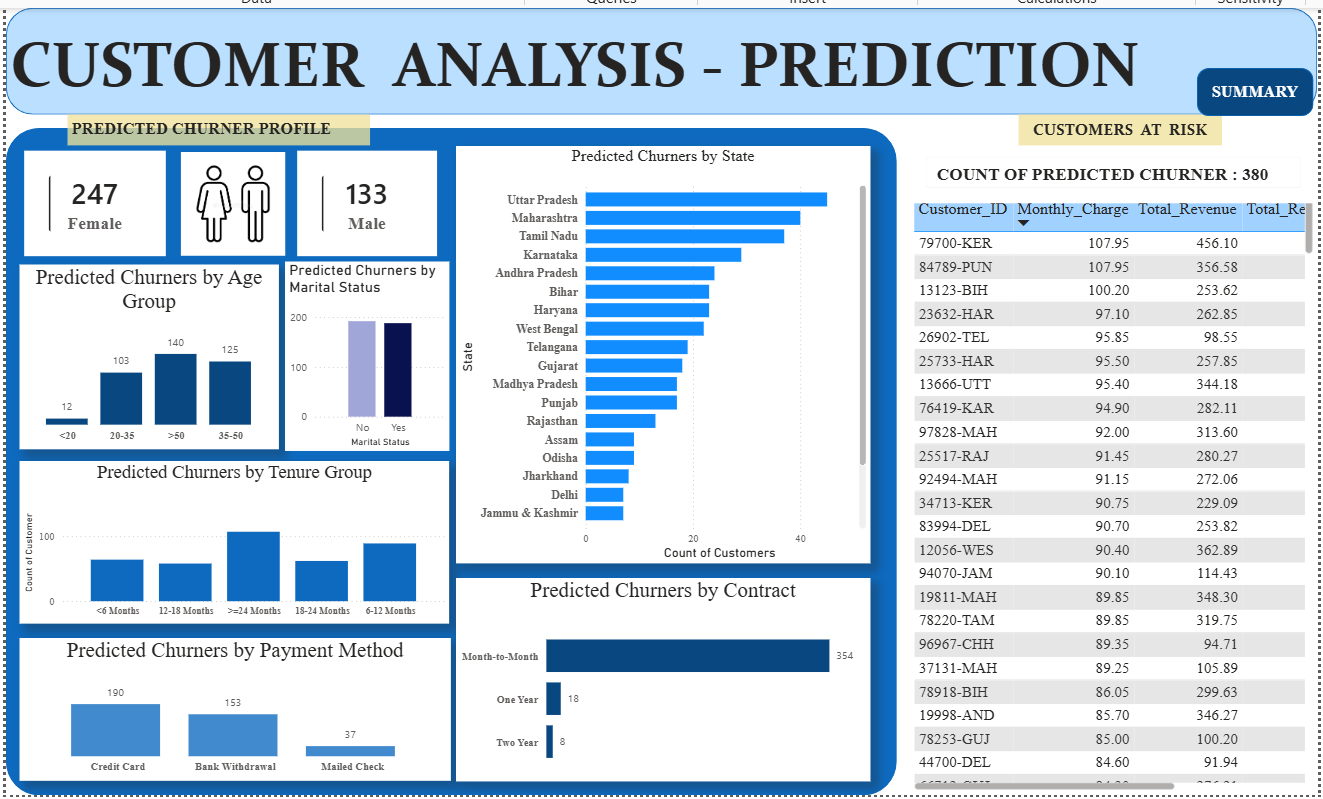

The page's visual inventory and layout, read from the dashboard file:
{"tool":"powerbi","page":{"name":"Churn Prediction","canvas":[1500,900],"ordinal":2},"visuals":[{"type":"shape","box":[0,0,1499.3,121.8],"z":0},{"type":"textbox","box":[0,15.5,1499.3,106.3],"z":1000},{"type":"shape","box":[0,136.6,1018.5,763],"z":2000},{"type":"textbox","box":[71,122.4,346,35.5],"z":3000},{"type":"cardVisual","fields":{"Data":["tbl_measures.Count Predicted Churner"]},"box":[16,157.9,172.1,131.3],"z":4000},{"type":"cardVisual","fields":{"Data":["tbl_measures.Count Predicted Churner"]},"box":[328.3,157.9,170.3,131.3],"z":5000},{"type":"clusteredColumnChart","title":"Predicted Churners by Age Group","fields":{"Category":["mapping_agegrp.age group"],"Y":["CountNonNull(Predictions.Customer_ID)"]},"box":[16,292.8,296.3,211.2],"z":6000},{"type":"columnChart","title":"Predicted Churners by Marital Status","fields":{"Category":["Predictions.Married"],"Y":["CountNonNull(Predictions.Customer_ID)"]},"box":[319.4,289.2,188.1,216.5],"z":7000},{"type":"clusteredColumnChart","title":"Predicted Churners by Tenure Group","fields":{"Y":["CountNonNull(Predictions.Customer_ID)"],"Category":["mapping_tenuregrp.tenure group"]},"box":[16,518.1,491.5,186.3],"z":8000},{"type":"clusteredColumnChart","title":"Predicted Churners by Payment Method","fields":{"Y":["CountNonNull(Predictions.Customer_ID)"],"Category":["Predictions.Payment_Method"]},"box":[16,720.4,493.3,163.3],"z":9000},{"type":"clusteredBarChart","title":"Predicted Churners by State","fields":{"Category":["Predictions.State"],"Y":["CountNonNull(Predictions.Customer_ID)"]},"box":[514.6,157.9,473.8,477.3],"z":10000},{"type":"clusteredBarChart","title":"Predicted Churners by Contract","fields":{"Category":["Predictions.Contract"],"Y":["CountNonNull(Predictions.Customer_ID)"]},"box":[514.6,651.2,473.8,232.5],"z":11000},{"type":"image","box":[165,165,189.9,118.9],"z":12000},{"type":"tableEx","fields":{"Values":["Predictions.Customer_ID","Predictions.Monthly_Charge","Predictions.Total_Revenue","Predictions.Total_Refunds","Predictions.Number_of_Referrals"]},"box":[1032.7,211.2,466.7,688.5],"z":13000},{"type":"cardVisual","fields":{"Data":["tbl_measures.Title Predicted Churner"]},"box":[1034.5,152.6,463.1,71],"z":14000},{"type":"textbox","box":[1158.7,122.4,232.5,35.5],"z":15000},{"type":"shape","box":[1362.8,69.2,133.1,55],"z":16000}]}

Visuals, with their boxes on the page's 1500x900 design canvas (x1, y1, x2, y2). These are canvas units, not pixel positions in the 1323x799 screenshot, which may show the page scaled, cropped or inside an application window:
shape: bbox(0, 0, 1499, 122)
textbox: bbox(0, 16, 1499, 122)
shape: bbox(0, 137, 1018, 900)
textbox: bbox(71, 122, 417, 158)
cardVisual - tbl_measures.Count Predicted Churner: bbox(16, 158, 188, 289)
cardVisual - tbl_measures.Count Predicted Churner: bbox(328, 158, 499, 289)
"Predicted Churners by Age Group" clusteredColumnChart: bbox(16, 293, 312, 504)
"Predicted Churners by Marital Status" columnChart: bbox(319, 289, 508, 506)
"Predicted Churners by Tenure Group" clusteredColumnChart: bbox(16, 518, 508, 704)
"Predicted Churners by Payment Method" clusteredColumnChart: bbox(16, 720, 509, 884)
"Predicted Churners by State" clusteredBarChart: bbox(515, 158, 988, 635)
"Predicted Churners by Contract" clusteredBarChart: bbox(515, 651, 988, 884)
image: bbox(165, 165, 355, 284)
tableEx - Predictions.Customer_ID x Predictions.Monthly_Charge: bbox(1033, 211, 1499, 900)
cardVisual - tbl_measures.Title Predicted Churner: bbox(1034, 153, 1498, 224)
textbox: bbox(1159, 122, 1391, 158)
shape: bbox(1363, 69, 1496, 124)
